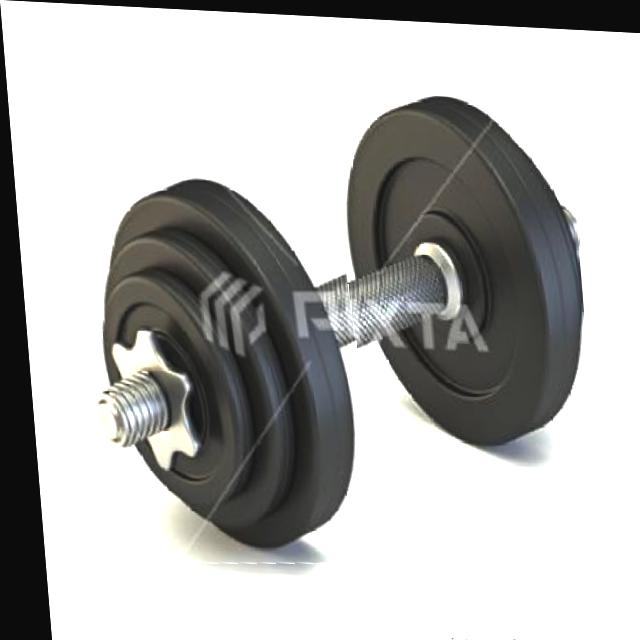barbell: (51, 158, 372, 571)
